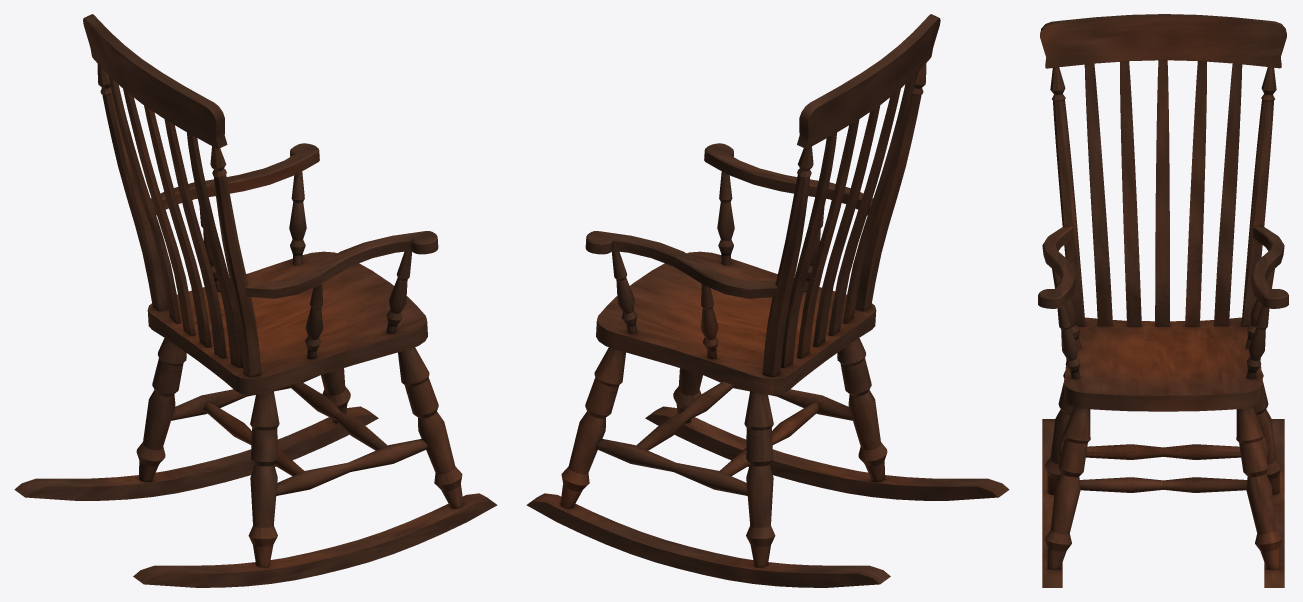
The model's file is rocking_chair.fbx.
3 views of the same model, side by side, from view 1: azimuth 30°, elevation 25°; view 2: azimuth 150°, elevation 25°; view 3: azimuth 270°, elevation 25° (orthographic). The views are drawn at different scales.
Parts seen in each view (by area): view 1: rocking chair lowpoly; view 2: rocking chair lowpoly; view 3: rocking chair lowpoly.
Boxes of the visible parts, box(x1,y1,x2,y2) form: rocking chair lowpoly: box(14, 14, 497, 587); rocking chair lowpoly: box(526, 14, 1009, 587); rocking chair lowpoly: box(1038, 14, 1288, 587).
Size of the model in its own units: 120 by 161 by 78.74.
